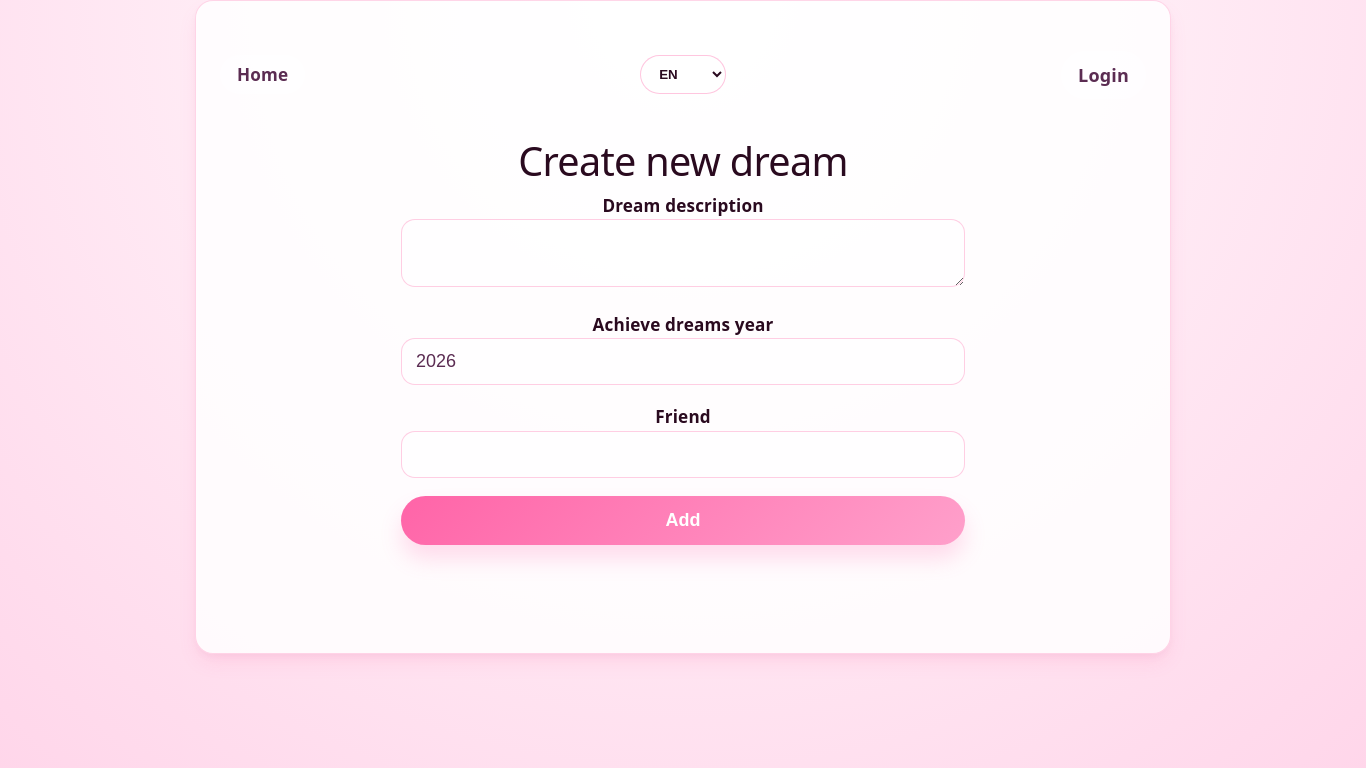
Test: DreamForm › shows validation errors when required fields are empty
Clear the field below "Achieve dreams year" at x=683, y=363, box top-left (401, 339), bottom-right (965, 386)
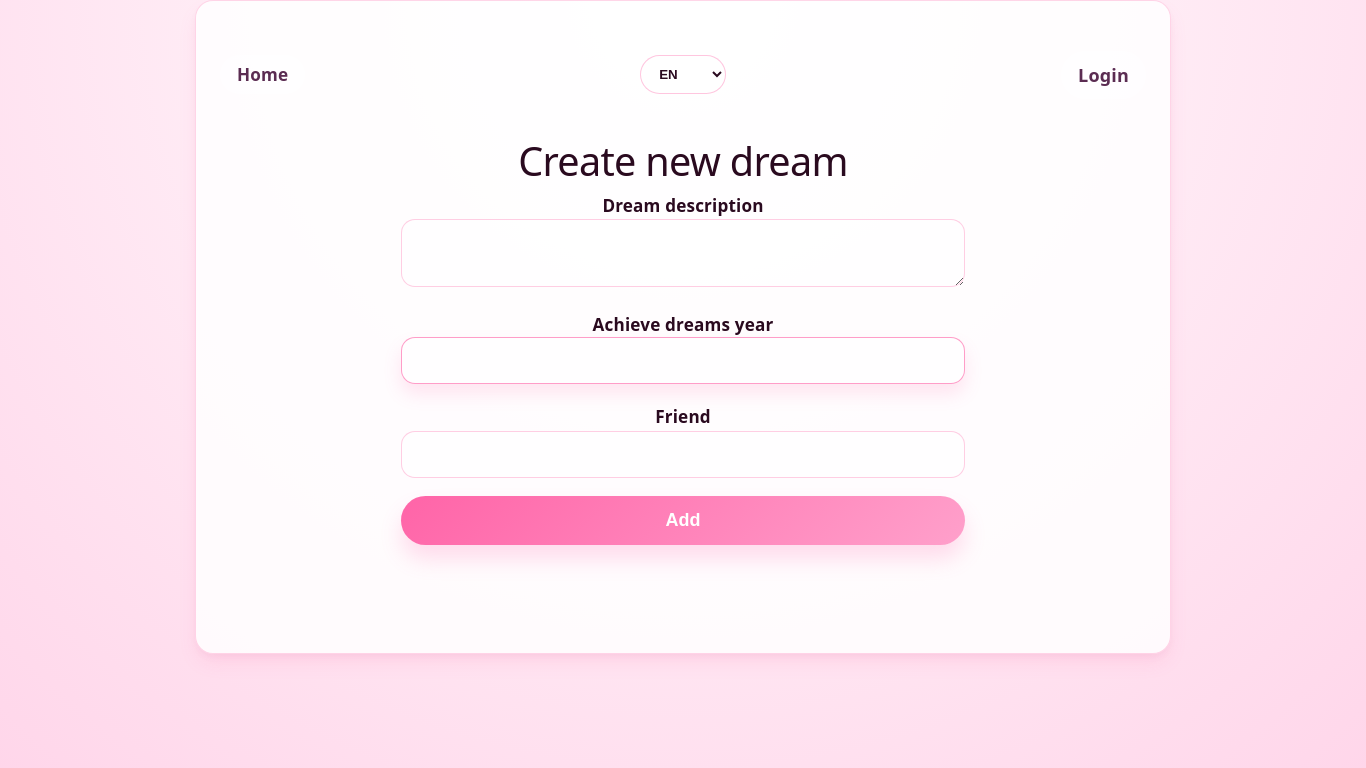
Click the submit button at x=683, y=521, box top-left (401, 496), bottom-right (965, 545)
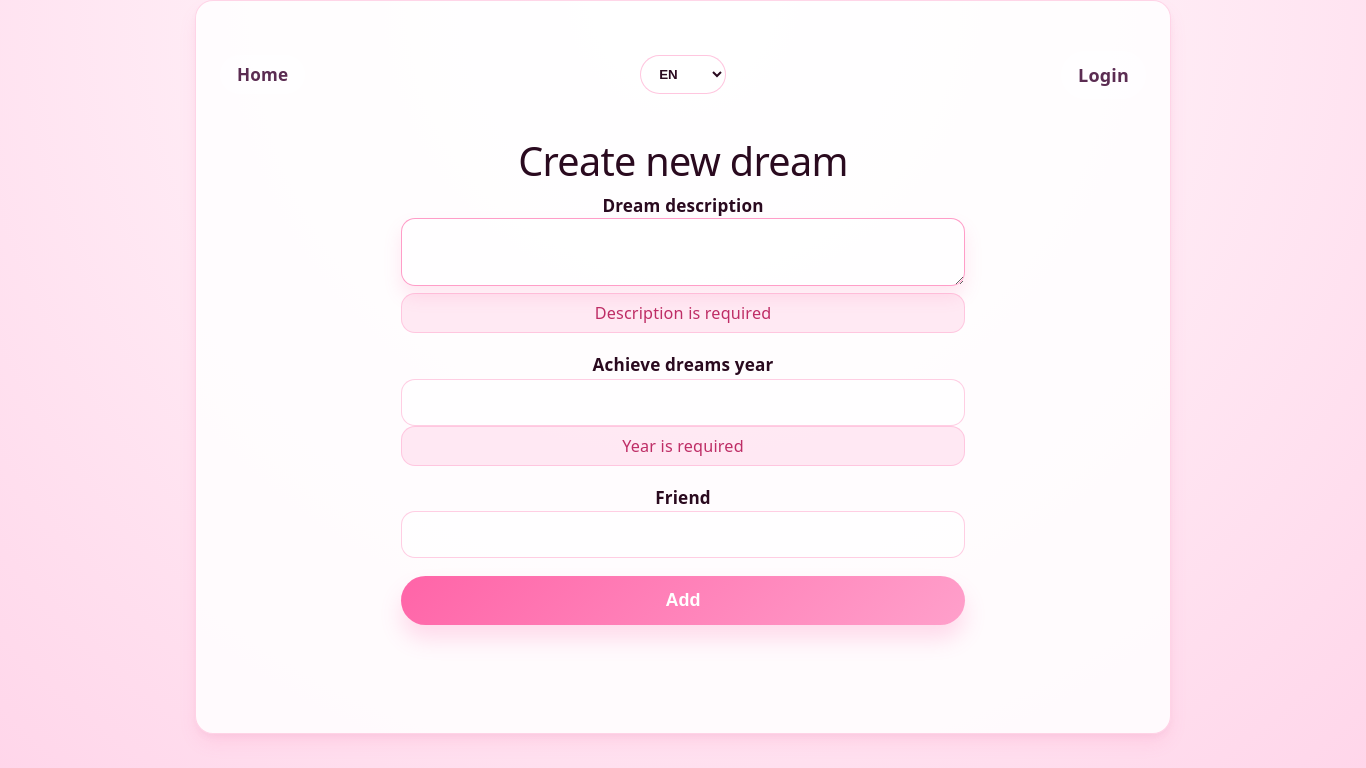
Expected: the text "Description is required" is shown, top-left (401, 293), bottom-right (965, 334)
Expected: the text "Year is required" is shown, top-left (401, 426), bottom-right (965, 466)
